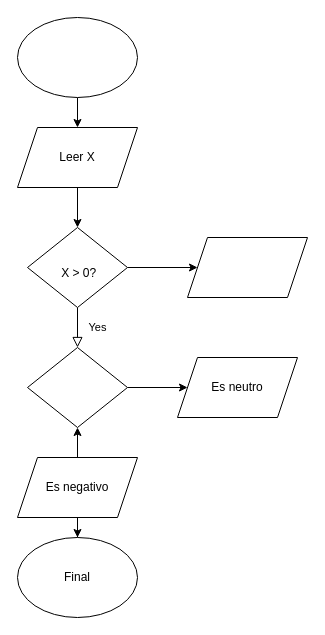
The diagram is 325 pixels wide and 635 high, and some of its shapes have lost their labels. The shapes that lost their labels are listed below. From the top down, each one's centre as x and y in pixels, then its label:
[77,57]: Inicio
[247,267]: Es positivo
[77,387]: X == 0?
